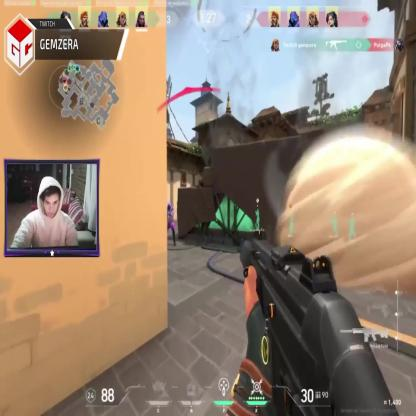enemy: (165, 203, 176, 248)
enemy_head: (167, 202, 171, 210)
